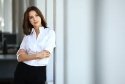female: (23, 6, 48, 34)
